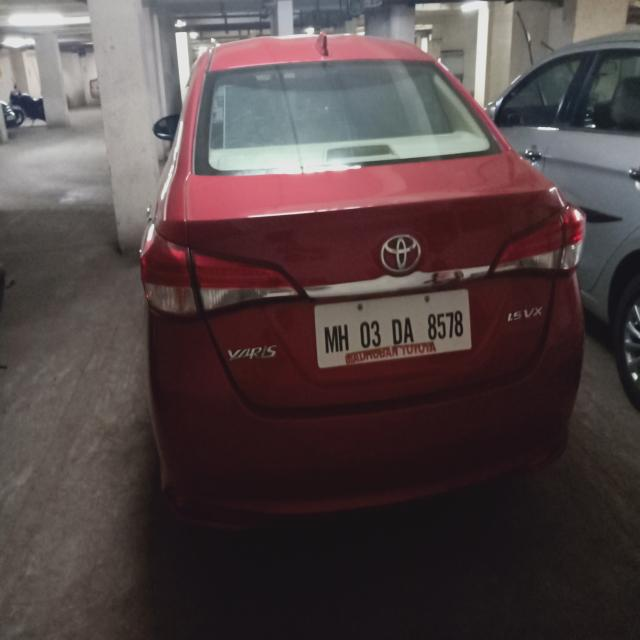Number-Plate: (322, 290, 469, 365)
